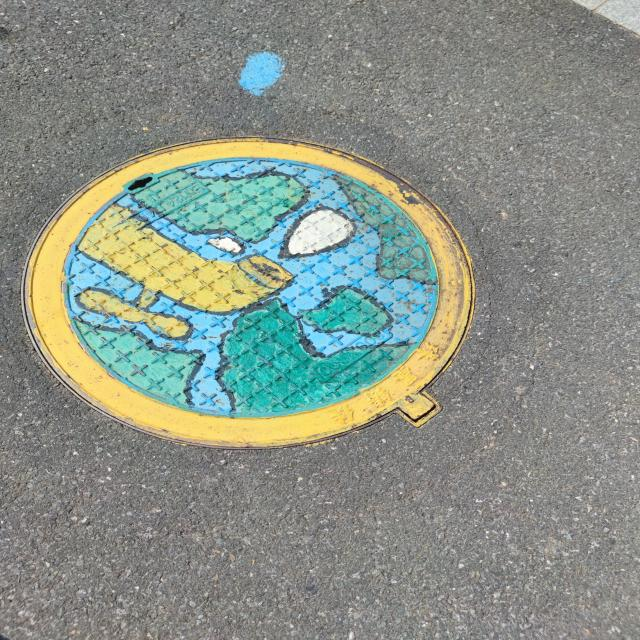Good: (16, 134, 480, 454)
